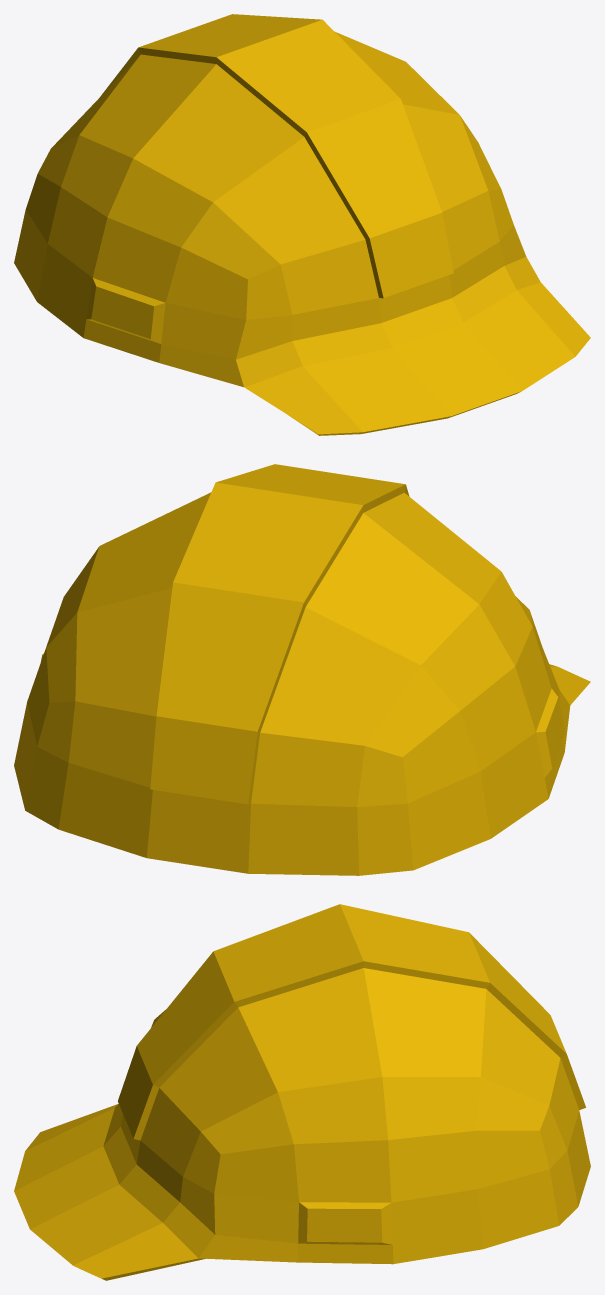
File: SM_helmet.fbx
3 renders of one model, top to bottom at view 1: azimuth 30°, elevation 25°; view 2: azimuth 150°, elevation 25°; view 3: azimuth 270°, elevation 25°, orthographic. The views are drawn at different scales.
Visible parts, largest first — view 1: Plane.001; view 2: Plane.001; view 3: Plane.001.
Boxes of the visible parts, left/top/right/bottom form: Plane.001: left=14, top=14, right=590, bottom=435; Plane.001: left=14, top=464, right=590, bottom=875; Plane.001: left=14, top=904, right=590, bottom=1280.
Bounding box in the file's own units: 31.43 × 18.84 × 38.17.
